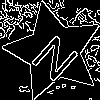N: (29, 26, 88, 84)
